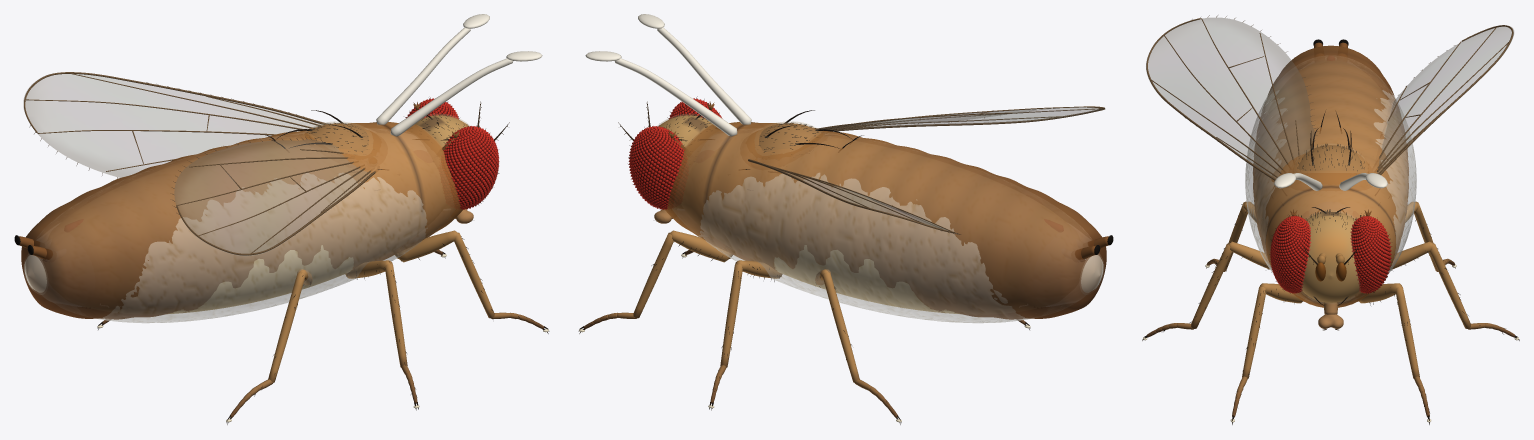
File: insect-ceb0b4efa161.glb
3 views of the same model, side by side, from view 1: azimuth 30°, elevation 25°; view 2: azimuth 150°, elevation 25°; view 3: azimuth 270°, elevation 25° (orthographic). The views are drawn at different scales.
Parts seen in each view (by area): view 1: slot:cuticle (×2), deco:abdomen:chorion, slot:wing:left, slot:wing:right, deco:wing:veins (×2), slot:abdomen (×2), deco:eye:facets, deco:head:dorsal_appendages, slot:leg:right:2, slot:eye:right, slot:leg:right:1, slot:leg:right:0 (+2 smaller); view 2: slot:cuticle (×2), deco:abdomen:chorion, slot:abdomen (×2), deco:wing:veins (×2), deco:eye:facets, deco:head:dorsal_appendages, slot:wing:right, slot:leg:left:2, slot:eye:left, slot:leg:left:1, slot:leg:left:0, slot:thorax (+2 smaller); view 3: slot:cuticle (×2), slot:wing:right, deco:abdomen:chorion, slot:wing:left, deco:eye:facets (×2), deco:wing:veins (×2), slot:head, slot:leg:left:1, slot:leg:right:1, slot:leg:left:2, slot:leg:right:2, slot:thorax (+6 smaller).
Boxes of the visible parts, x1=… form: slot:cuticle (×2): x1=21, y1=114, x2=469, y2=319; deco:abdomen:chorion: x1=97, y1=173, x2=428, y2=323; slot:wing:left: x1=23, y1=74, x2=321, y2=177; slot:wing:right: x1=174, y1=139, x2=370, y2=255; deco:wing:veins (×2): x1=24, y1=72, x2=376, y2=255; slot:abdomen (×2): x1=24, y1=245, x2=341, y2=314; deco:eye:facets: x1=441, y1=126, x2=499, y2=209; deco:head:dorsal_appendages: x1=376, y1=14, x2=542, y2=136; slot:leg:right:2: x1=395, y1=230, x2=544, y2=329; slot:eye:right: x1=443, y1=127, x2=496, y2=207; slot:leg:right:1: x1=345, y1=260, x2=417, y2=403; slot:leg:right:0: x1=230, y1=269, x2=312, y2=417; slot:cuticle (×2): x1=657, y1=114, x2=1106, y2=319; deco:abdomen:chorion: x1=698, y1=172, x2=1030, y2=323; slot:abdomen (×2): x1=786, y1=245, x2=1103, y2=314; deco:wing:veins (×2): x1=748, y1=106, x2=1104, y2=233; deco:eye:facets: x1=628, y1=126, x2=686, y2=209; deco:head:dorsal_appendages: x1=585, y1=14, x2=751, y2=136; slot:wing:right: x1=820, y1=107, x2=1105, y2=130; slot:leg:left:2: x1=583, y1=230, x2=732, y2=329; slot:eye:left: x1=630, y1=127, x2=684, y2=208; slot:leg:left:1: x1=710, y1=260, x2=782, y2=403; slot:leg:left:0: x1=815, y1=269, x2=897, y2=417; slot:thorax: x1=759, y1=123, x2=817, y2=151; slot:cuticle (×2): x1=1253, y1=45, x2=1408, y2=307; slot:wing:right: x1=1146, y1=18, x2=1314, y2=178; deco:abdomen:chorion: x1=1245, y1=90, x2=1416, y2=275; slot:wing:left: x1=1377, y1=26, x2=1513, y2=173; deco:eye:facets (×2): x1=1270, y1=216, x2=1391, y2=293; deco:wing:veins (×2): x1=1146, y1=18, x2=1513, y2=180; slot:head: x1=1302, y1=212, x2=1359, y2=302; slot:leg:left:1: x1=1390, y1=241, x2=1514, y2=337; slot:leg:right:1: x1=1147, y1=241, x2=1271, y2=337; slot:leg:left:2: x1=1359, y1=283, x2=1429, y2=417; slot:leg:right:2: x1=1232, y1=283, x2=1302, y2=417; slot:thorax: x1=1298, y1=145, x2=1363, y2=170.
Bounding box in the file's own units: 3.7 × 1.87 × 2.56.
